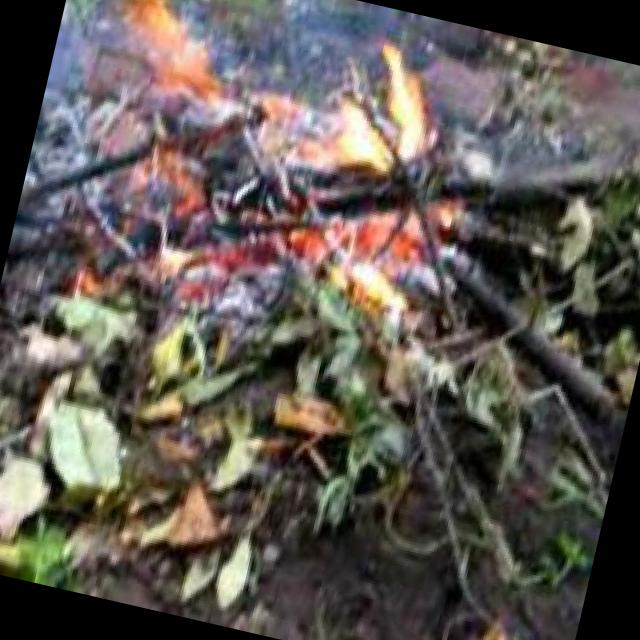Fire: (64, 0, 514, 339)
